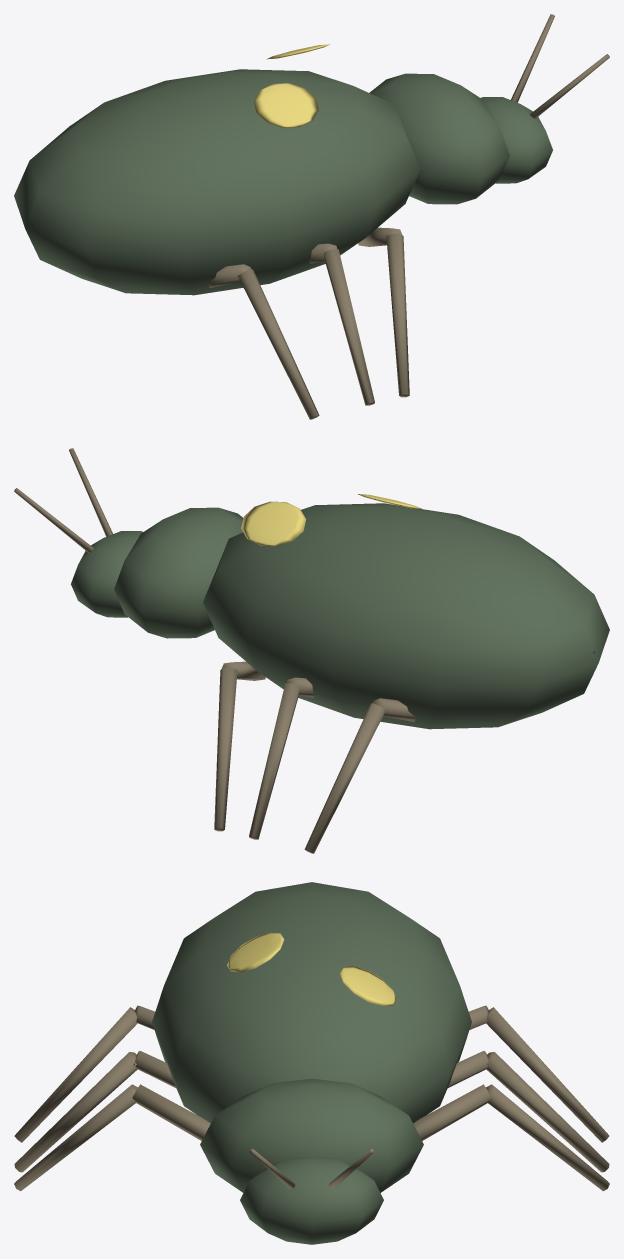
The model's file is three-lined-diving-beetle.glb.
The picture shows the model from 3 angles, top to bottom: view 1: azimuth 30°, elevation 25°; view 2: azimuth 150°, elevation 25°; view 3: azimuth 270°, elevation 25°; orthographic projection. The views are drawn at different scales.
Parts seen in each view (by area): view 1: e; view 2: e; view 3: e.
Part boxes in pixels (x1,y1,x2,y2): e: (14,14,609,419); e: (14,448,609,853); e: (14,882,609,1244).
Size of the model in its own units: 0.3911 by 0.1525 by 0.3351.
